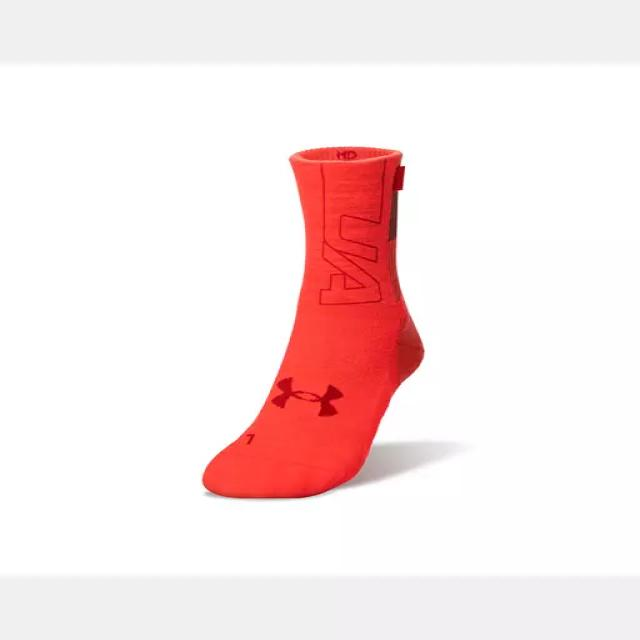sock: (201, 145, 425, 498)
